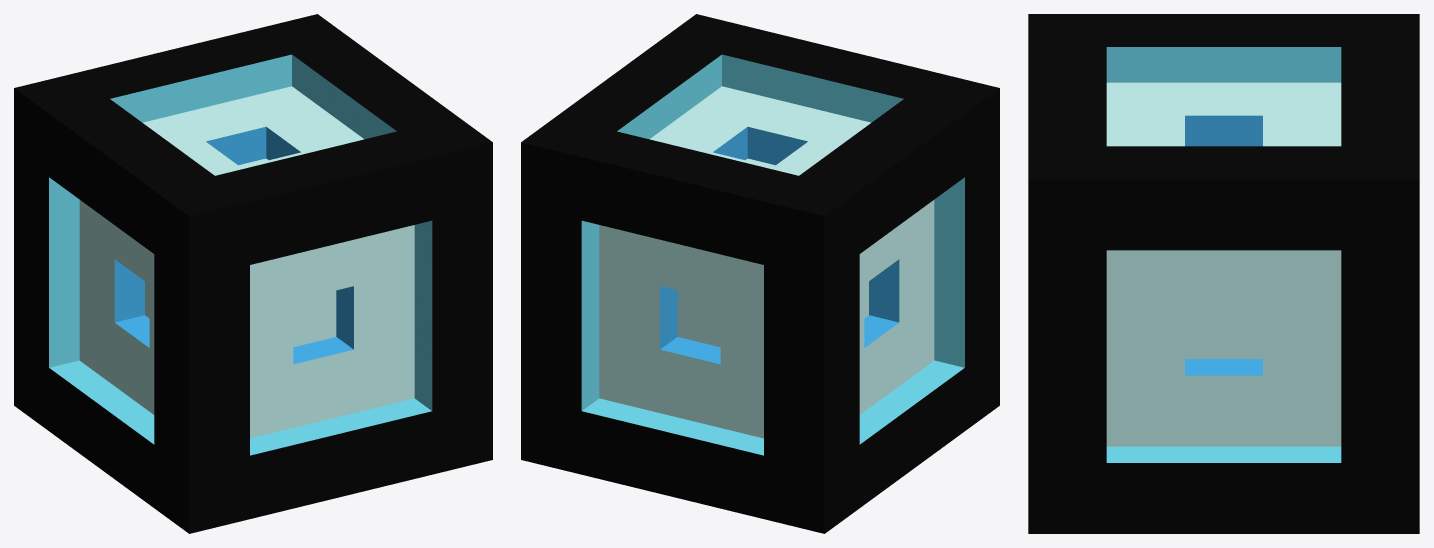
Rendered from blockTransportBlock.obj.
3 views of the same model, side by side, from view 1: azimuth 30°, elevation 25°; view 2: azimuth 150°, elevation 25°; view 3: azimuth 270°, elevation 25° (orthographic). The views are drawn at different scales.
Visible parts, largest first — view 1: Cube_Cube.001; view 2: Cube_Cube.001; view 3: Cube_Cube.001.
Boxes of the visible parts, x1,y1,x2,y2 form: Cube_Cube.001: (14, 14, 492, 533); Cube_Cube.001: (521, 14, 999, 533); Cube_Cube.001: (1028, 14, 1419, 533).
Bounding box in the file's own units: 1 × 1 × 1.
